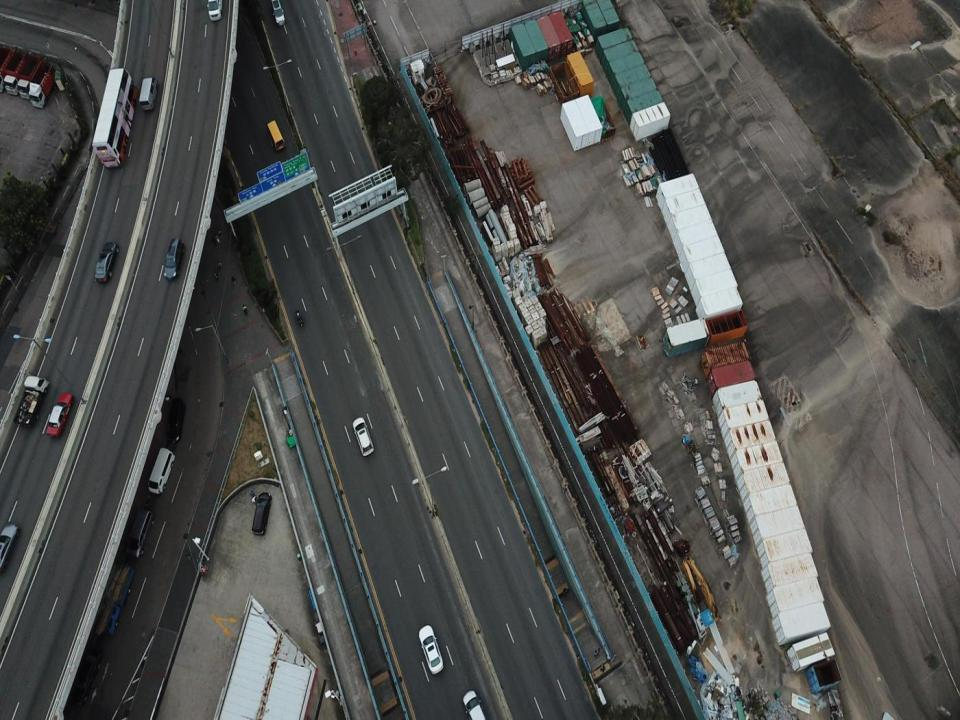bus: (92, 67, 140, 168)
car: (121, 500, 155, 560), (159, 390, 187, 448), (45, 392, 75, 439), (250, 491, 274, 537), (94, 240, 119, 284), (0, 520, 21, 570), (162, 238, 182, 280), (264, 0, 286, 26)
truck: (83, 558, 138, 646), (14, 374, 49, 428), (16, 50, 50, 101), (2, 43, 30, 96), (28, 58, 56, 110)
van: (144, 447, 174, 497), (134, 72, 159, 109), (265, 120, 288, 150)
